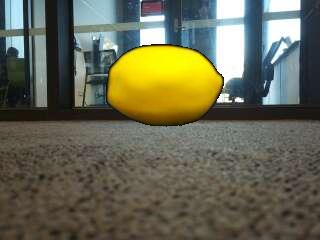lemon: (105, 46, 221, 126)
